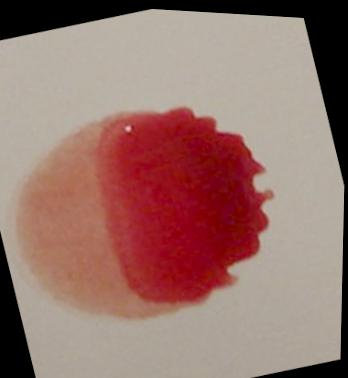Fire: (12, 103, 275, 319)
